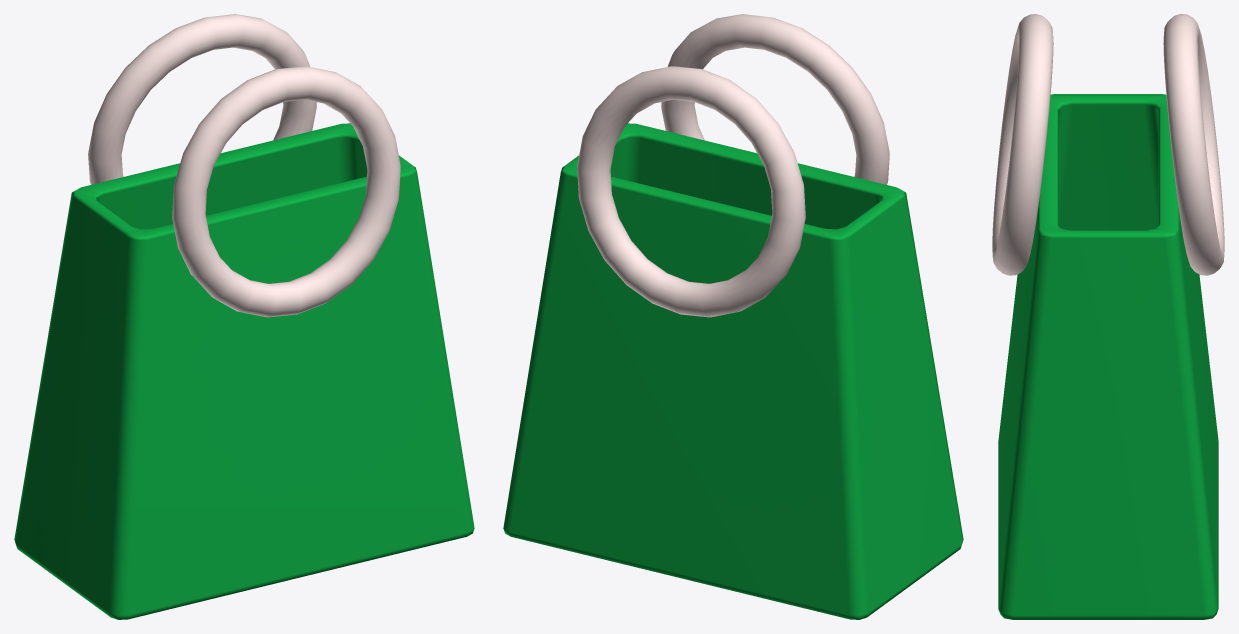
File: Public_10_Package_4.glb
3 renders of one model, left to right at view 1: azimuth 30°, elevation 25°; view 2: azimuth 150°, elevation 25°; view 3: azimuth 270°, elevation 25°, orthographic.
Visible parts, largest first — view 1: Public_10_Package_4; view 2: Public_10_Package_4; view 3: Public_10_Package_4.
Part boxes in pixels (<box>): Public_10_Package_4: <box>14,14,474,619</box>; Public_10_Package_4: <box>503,14,963,619</box>; Public_10_Package_4: <box>992,14,1224,619</box>.
Size of the model in its own units: 2.13 by 2.78 by 1.16.
Materials: 1 (1 with a texture image).
